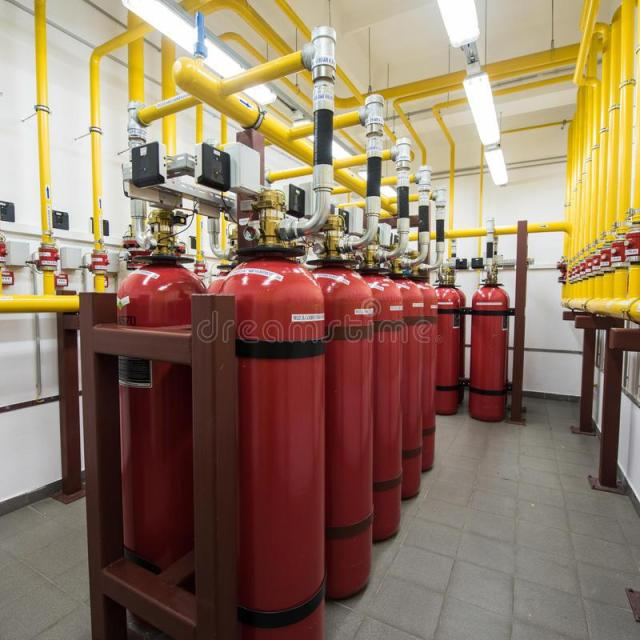fire_extinguisher: (213, 184, 322, 639), (112, 208, 210, 639), (273, 205, 377, 604), (321, 246, 404, 554), (463, 259, 512, 423), (424, 272, 465, 419)
